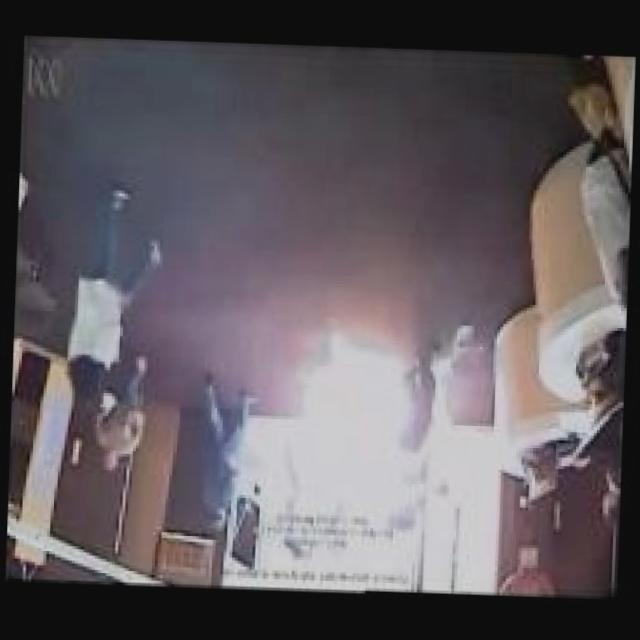fire: (286, 316, 453, 522)
